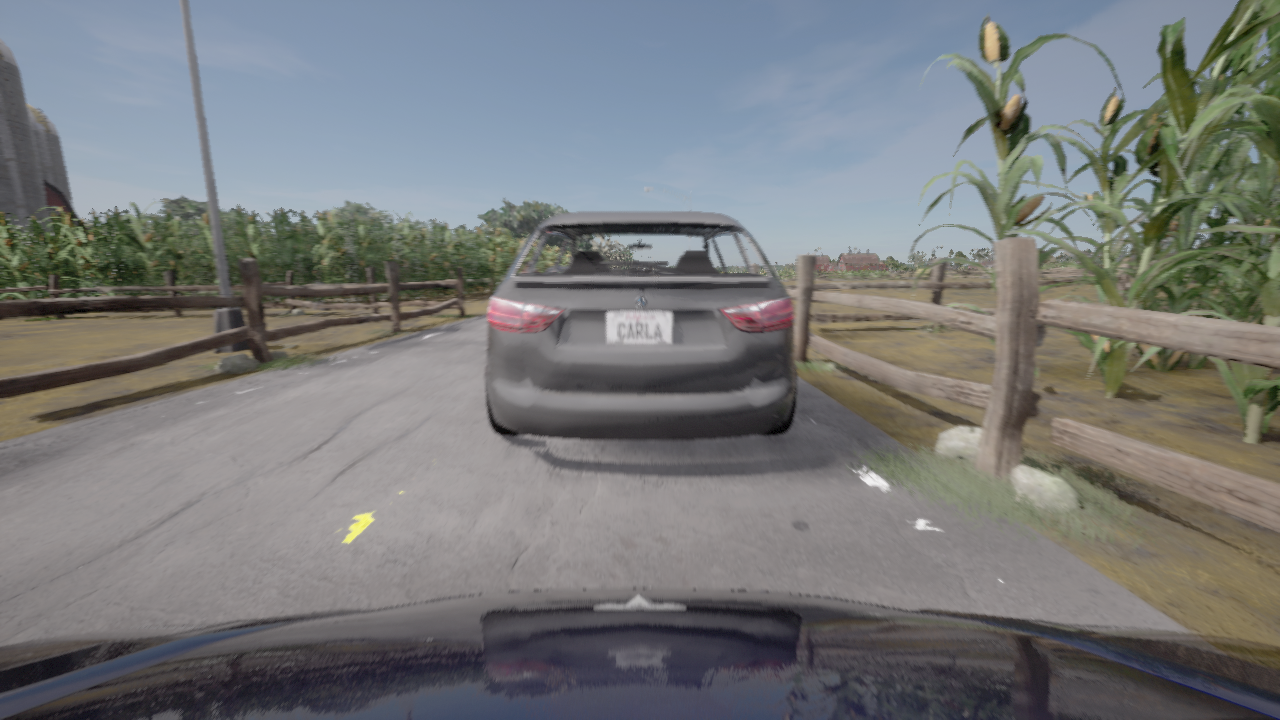cyclist: (0, 588, 1279, 719), (485, 211, 797, 440)
